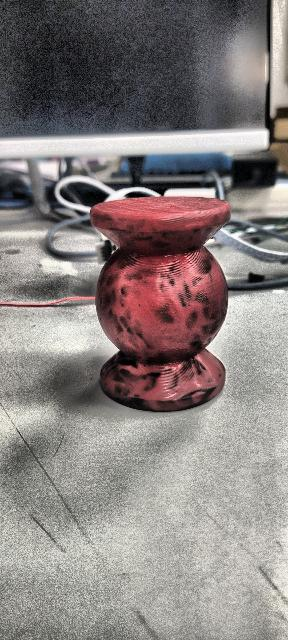red: (89, 195, 231, 412)
